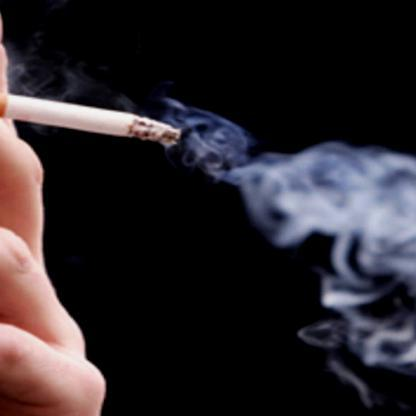cigarette: (0, 88, 181, 148)
smoke: (262, 137, 416, 370), (170, 104, 249, 184)
